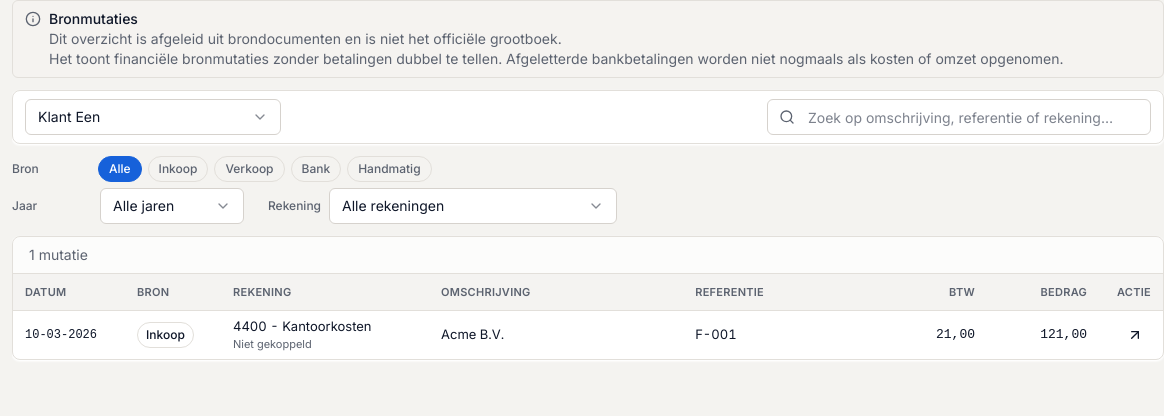
Test: Grootboekmutaties — states › 54b. toont een bronspecifieke lege staat
This screenshot has width=1164, height=416.
Click the button "Bank". click: (316, 169)
box: x1=290 y1=156 x2=341 y2=182
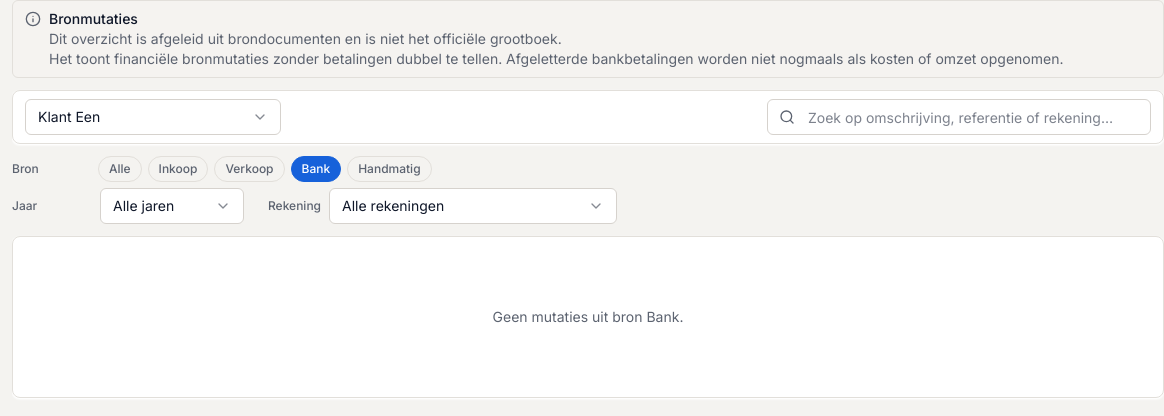
Expected: the text "Geen mutaties uit bron Bank." is shown, x1=492 y1=306 x2=683 y2=328
